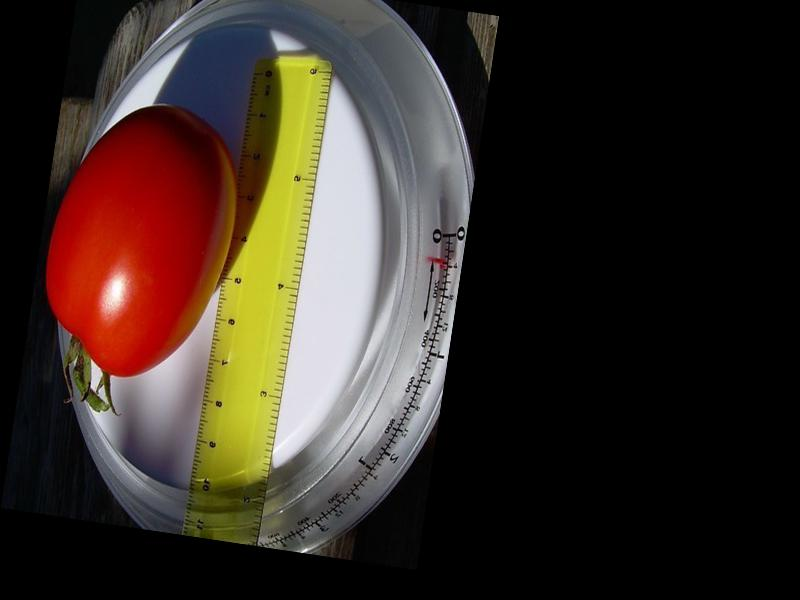Tomato: (30, 92, 254, 392)
